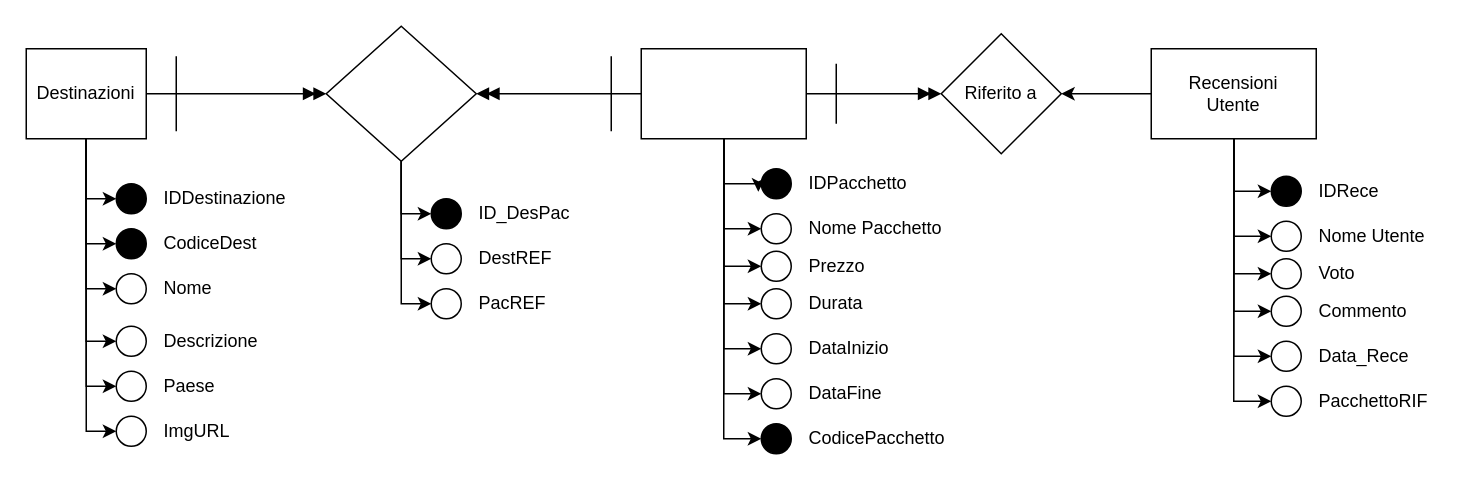
Image size: 1463x488. Some labels were removed from this diagram. Here are the shapes that lost their labels. From the top down, the centre of each, then its label:
point (400, 93): Destinazione_ Pacchetto (contiene)
point (723, 93): Pacchetti Vacanza
